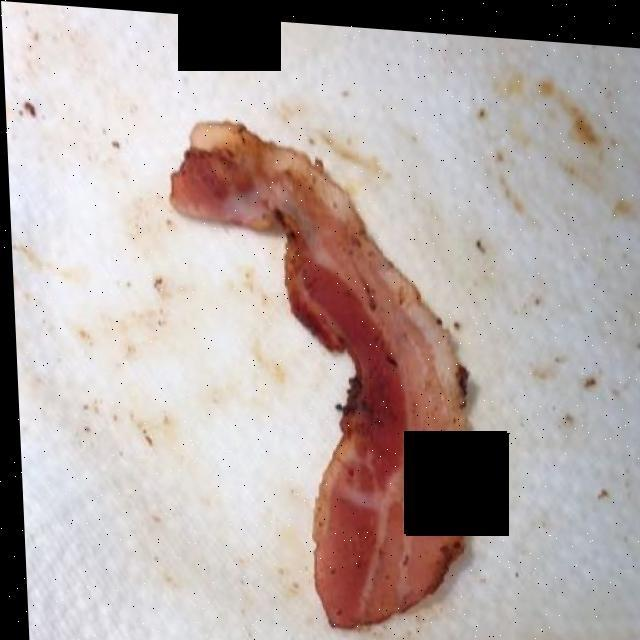bacon: (179, 123, 461, 611)
